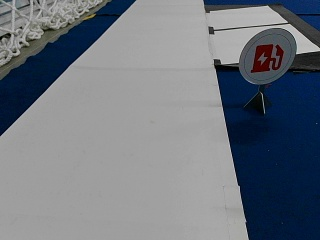battery: (237, 27, 296, 86)
